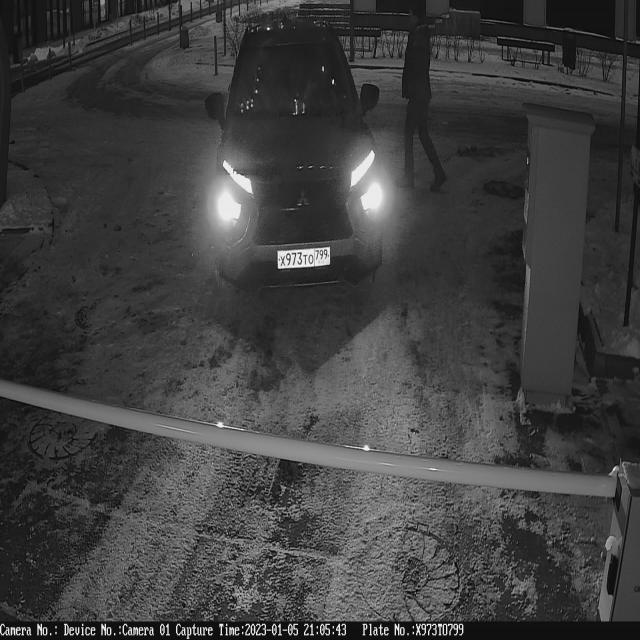car-plate-numbers: (275, 243, 334, 277)
